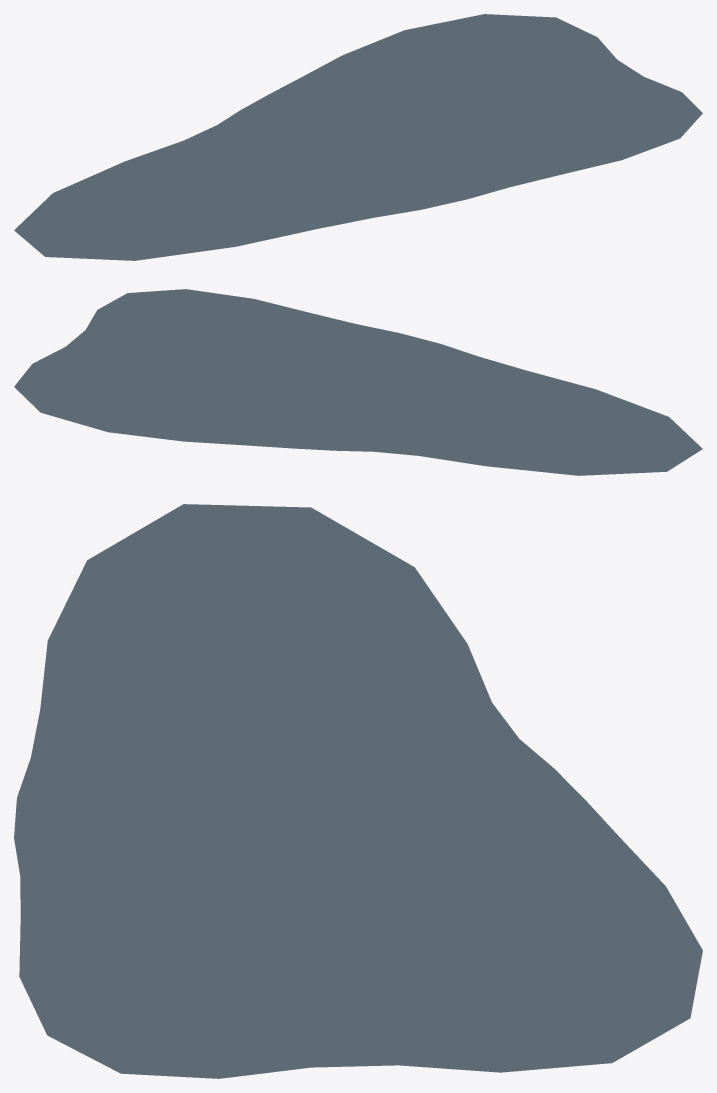
File: decal_puddle2.glb
3 views of the same model, one above another, from view 1: azimuth 30°, elevation 25°; view 2: azimuth 150°, elevation 25°; view 3: azimuth 270°, elevation 25° (orthographic). The views are drawn at different scales.
Parts seen in each view (by area): view 1: decal_puddle2; view 2: decal_puddle2; view 3: decal_puddle2.
Part boxes in pixels (x1=…): decal_puddle2: x1=14, y1=14, x2=702, y2=260; decal_puddle2: x1=14, y1=289, x2=702, y2=475; decal_puddle2: x1=14, y1=504, x2=702, y2=1078.
Bounding box in the file's own units: 2.1 × 0 × 1.06.
